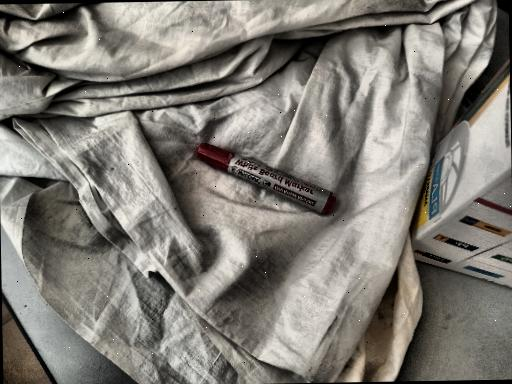marcador rojo: (196, 143, 336, 214)
